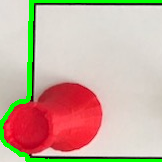Red Castle: (4, 79, 106, 155)
